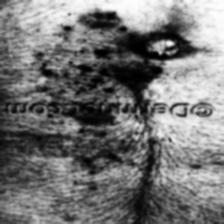Potentially Malignant Skin Tumors: (41, 21, 177, 89), (36, 118, 144, 173)
